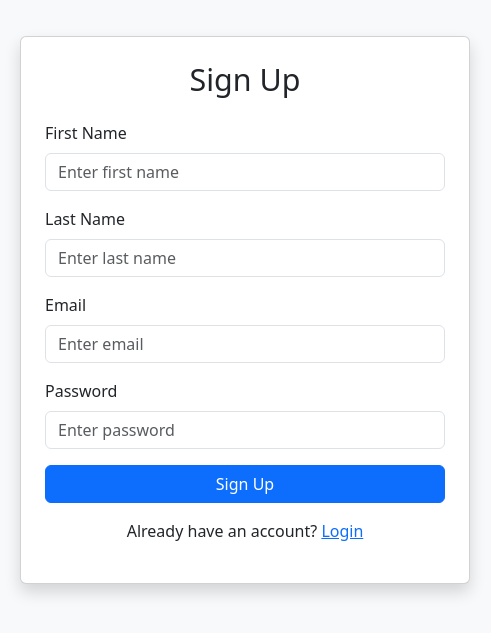
Signup › shows the server error message and keeps the input
Type "Ada" into the field with placeholder "Enter first name" at coordinates (245, 172), box [45,153,445,191]
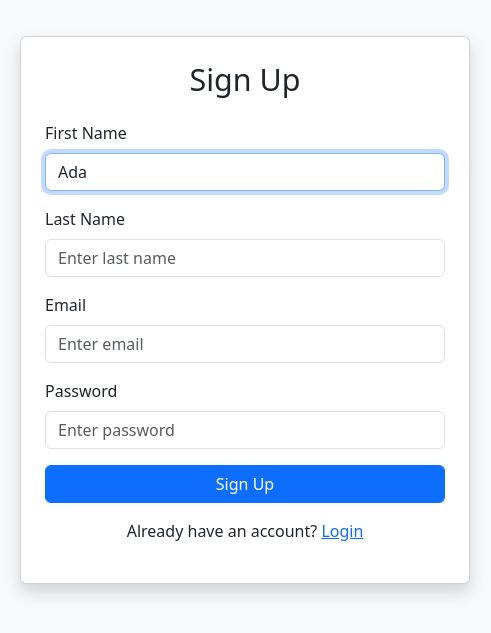
Type "Lovelace" into the field with placeholder "Enter last name" at coordinates (245, 258), box [45,239,445,277]
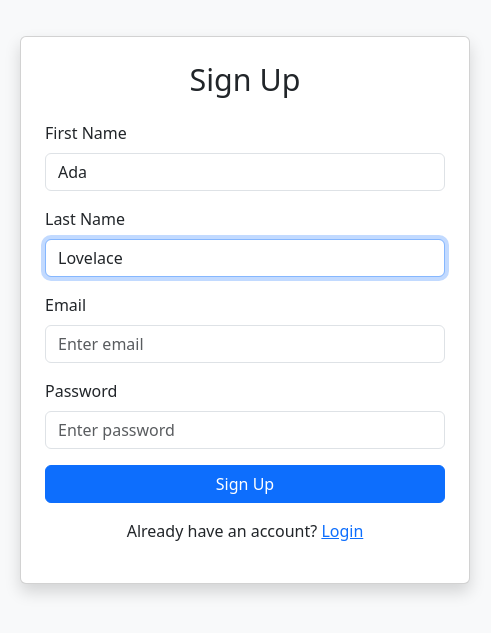
Type "ada@example.com" into the field with placeholder "Enter email" at coordinates (245, 344), box [45,325,445,363]
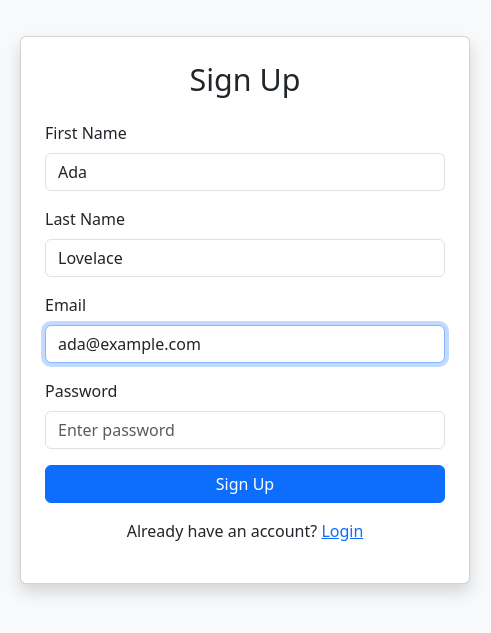
Type "secret123" into the password field with placeholder "Enter password" at coordinates (245, 430), box [45,411,445,449]
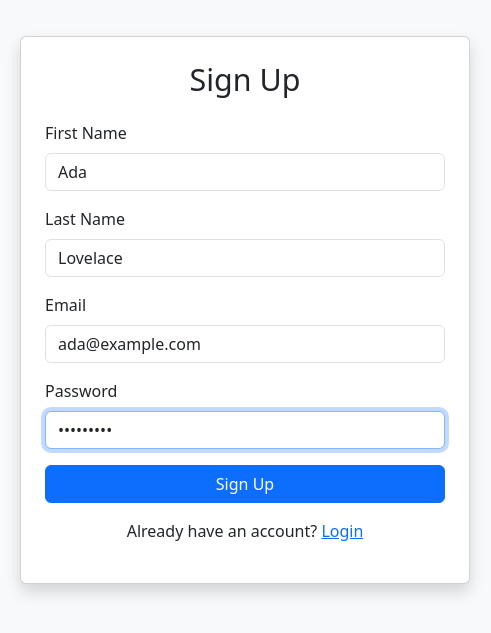
Click the button "Sign Up" at coordinates (245, 484), box [45,465,445,503]
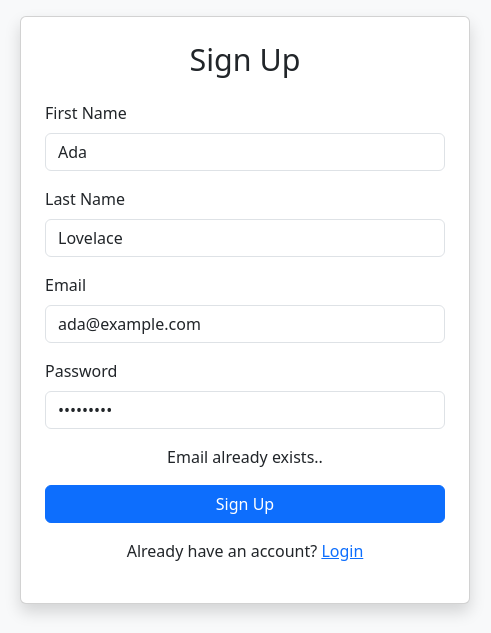
Expected: the text "Email already exists.." is shown, [167,446,323,468]
